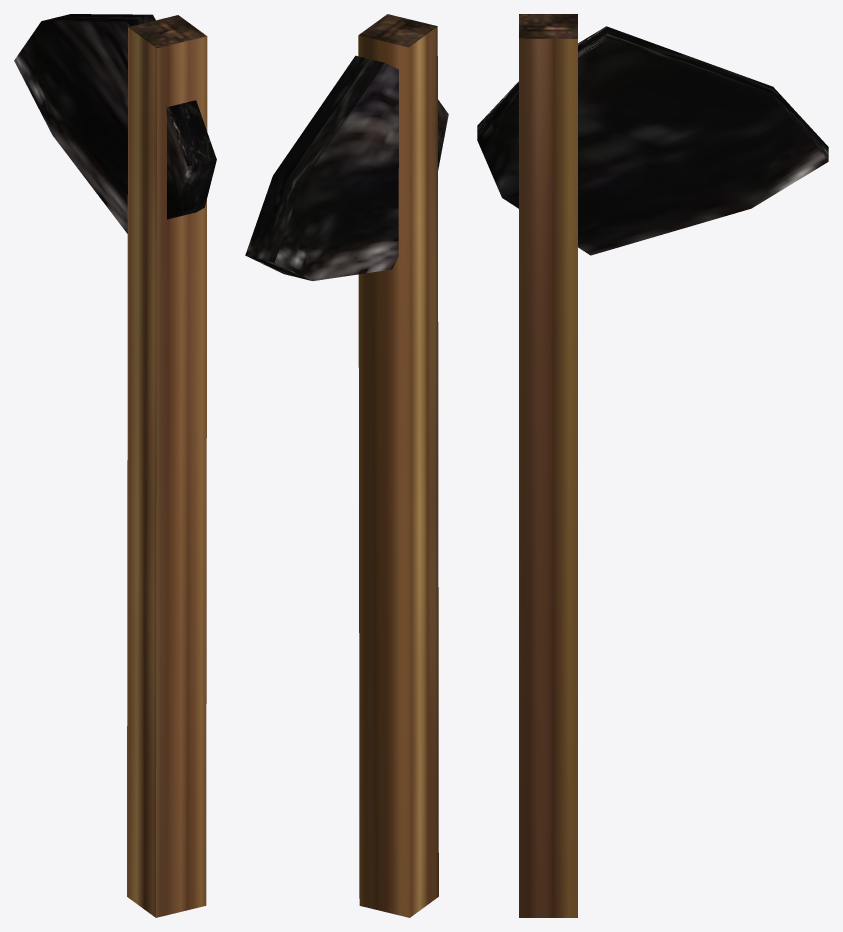
Rendered from maya_machado.dae.
3 views of the same model, side by side, from view 1: azimuth 30°, elevation 25°; view 2: azimuth 150°, elevation 25°; view 3: azimuth 270°, elevation 25° (orthographic).
Visible parts, largest first — view 1: maya_machado; view 2: maya_machado; view 3: maya_machado.
Boxes of the visible parts, bbox=[...] form: maya_machado: bbox=[14, 14, 216, 917]; maya_machado: bbox=[245, 14, 448, 917]; maya_machado: bbox=[477, 14, 828, 917].
Size of the model in its own units: 0.105 by 0.6151 by 1.7.
Materials: 1 (1 with a texture image).
